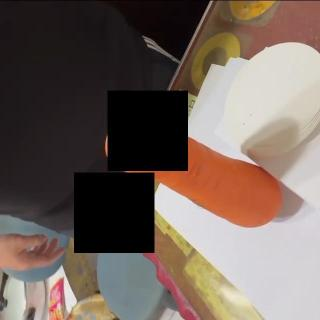carrot: (105, 121, 284, 229)
